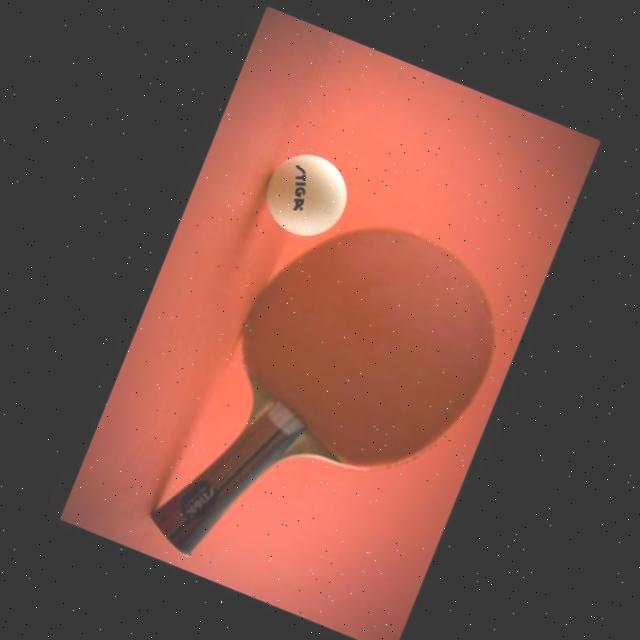ping-pong-ball: (248, 138, 359, 248)
